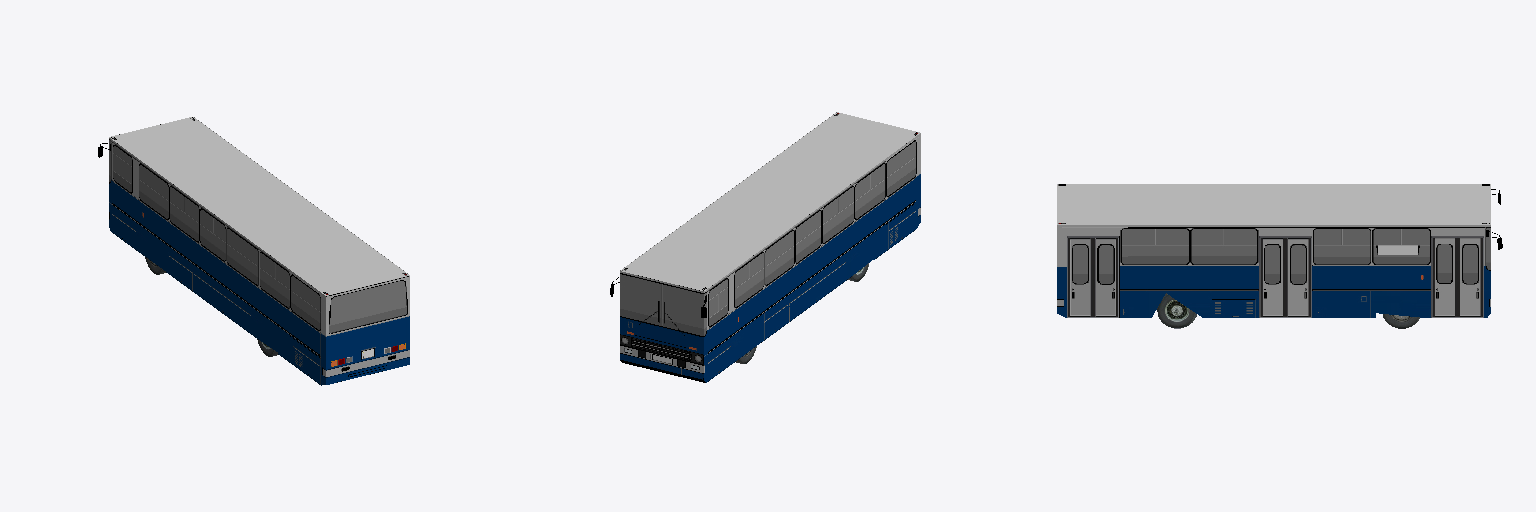
3 views of the same model, side by side, from view 1: azimuth 30°, elevation 25°; view 2: azimuth 150°, elevation 25°; view 3: azimuth 270°, elevation 25° (orthographic).
Visible parts, largest first — view 1: Box018; view 2: Box018; view 3: Box018, Cylinder005.
Boxes of the visible parts, x1,y1,x2,y2 form: Box018: [109, 117, 409, 385]; Box018: [620, 112, 920, 382]; Box018: [1057, 184, 1490, 317]; Cylinder005: [1157, 293, 1196, 328].
Size of the model in its own units: 3.22 by 3.3 by 12.88.
Materials: 2 (2 with a texture image).